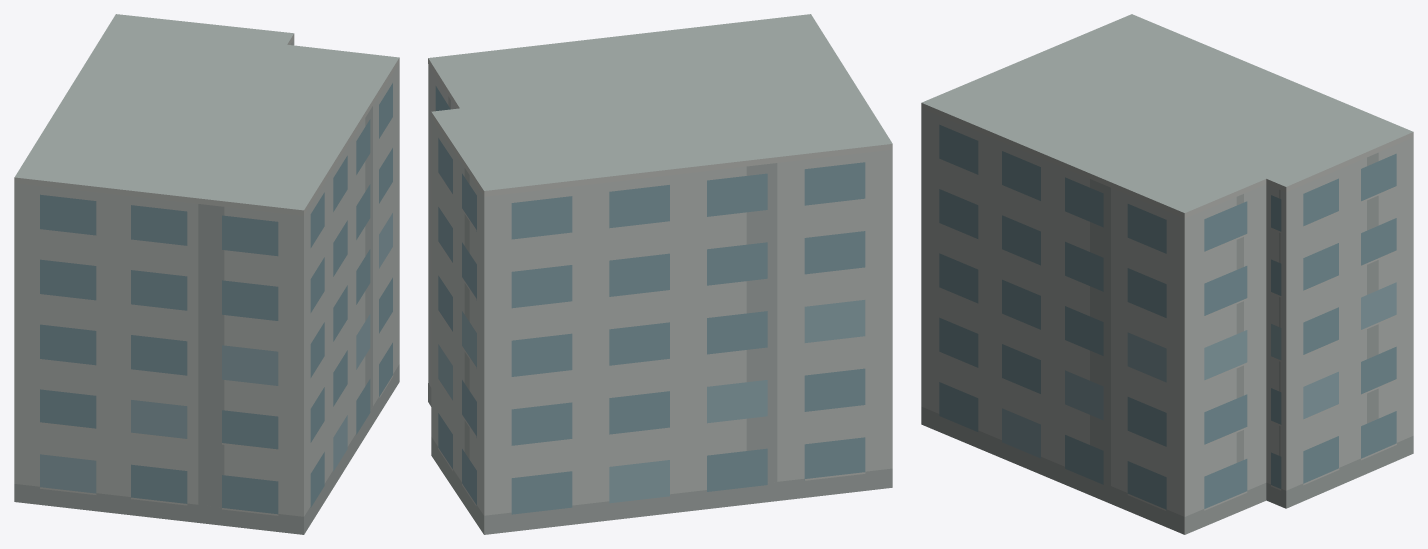
File: survey-upis-32594507.glb
The picture shows the model from 3 angles, left to right: view 1: azimuth 30°, elevation 25°; view 2: azimuth 150°, elevation 25°; view 3: azimuth 270°, elevation 25°; orthographic projection. The views are drawn at different scales.
Visible parts, largest first — view 1: survey-upis-32594507.tmp; view 2: survey-upis-32594507.tmp; view 3: survey-upis-32594507.tmp.
Boxes of the visible parts, x1,y1,x2,y2 form: survey-upis-32594507.tmp: (14, 14, 399, 534); survey-upis-32594507.tmp: (428, 14, 892, 534); survey-upis-32594507.tmp: (921, 14, 1413, 534).
Bounding box in the file's own units: 19.13 × 14.4 × 19.98.
